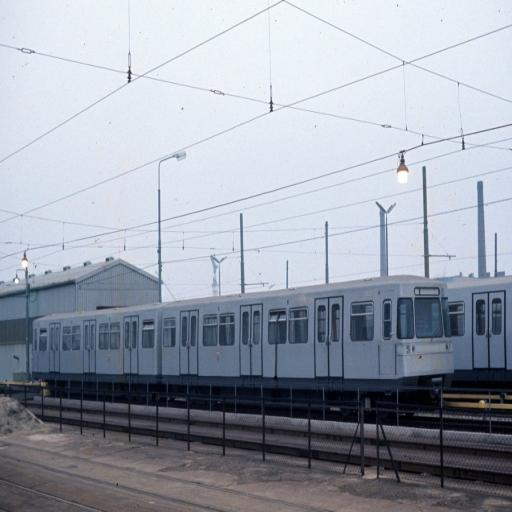Silberpfeil: (30, 274, 454, 389)
